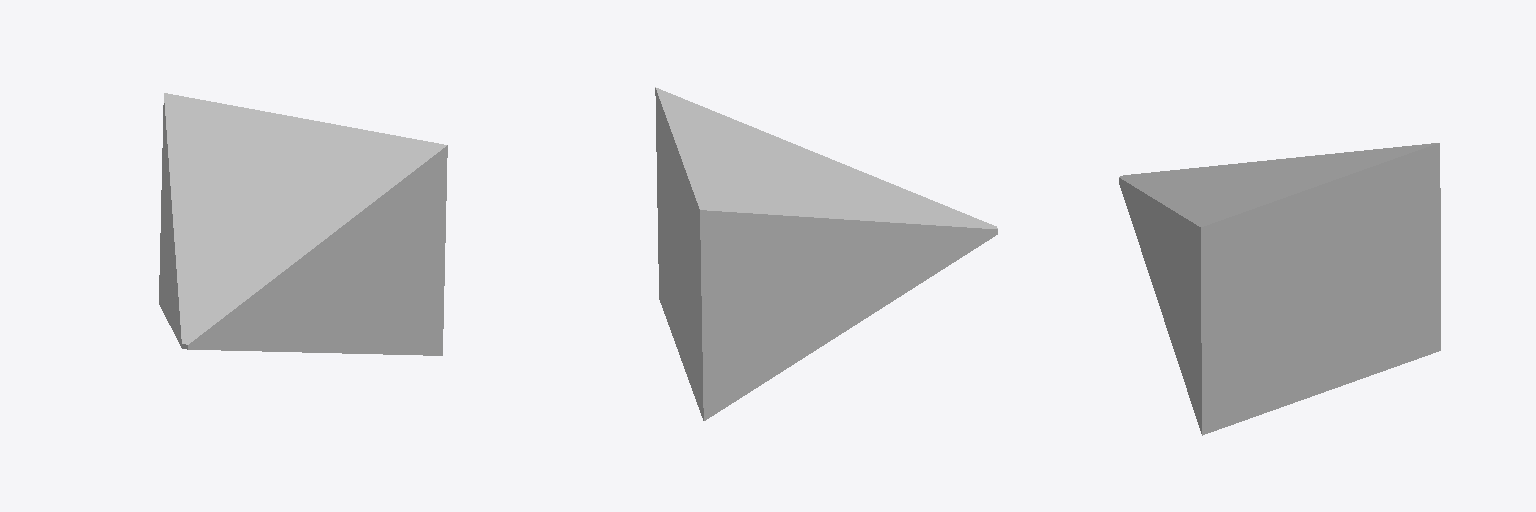
Rendered from dark-hospital-corridor.obj.
3 views of the same model, side by side, from view 1: azimuth 30°, elevation 25°; view 2: azimuth 150°, elevation 25°; view 3: azimuth 270°, elevation 25° (orthographic).
Parts seen in each view (by area): view 1: Cube; view 2: Cube; view 3: Cube.
Boxes of the visible parts, box(x1,y1,x2,y2) form: Cube: box(159, 93, 447, 355); Cube: box(655, 87, 997, 420); Cube: box(1119, 143, 1440, 435).
Size of the model in its own units: 85.02 by 57.38 by 78.07.